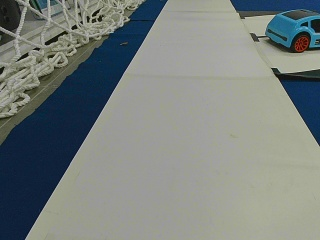car: (265, 9, 318, 52)
